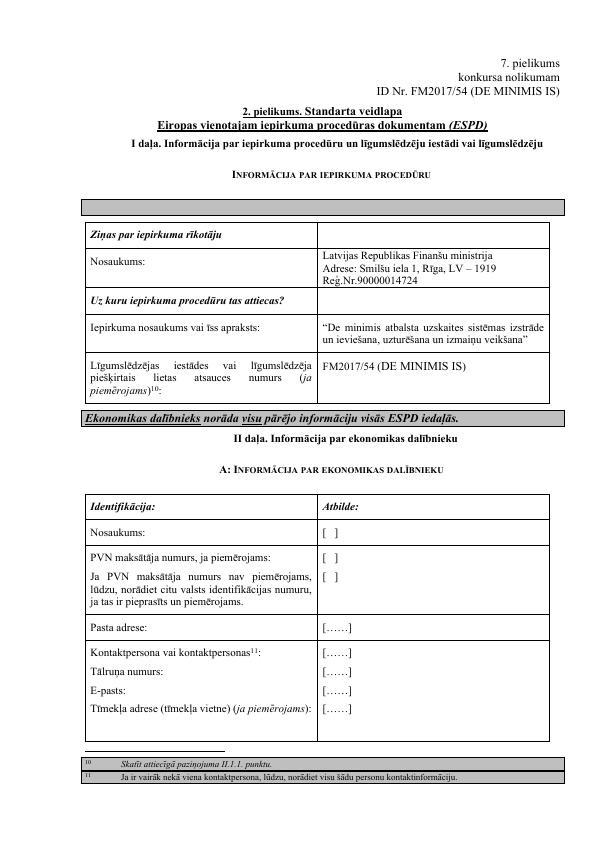table: (77, 489, 552, 743), (79, 222, 570, 430), (77, 753, 565, 787)
text: (128, 105, 548, 153), (375, 54, 564, 102), (211, 461, 447, 480), (225, 433, 463, 449), (228, 167, 439, 180)
